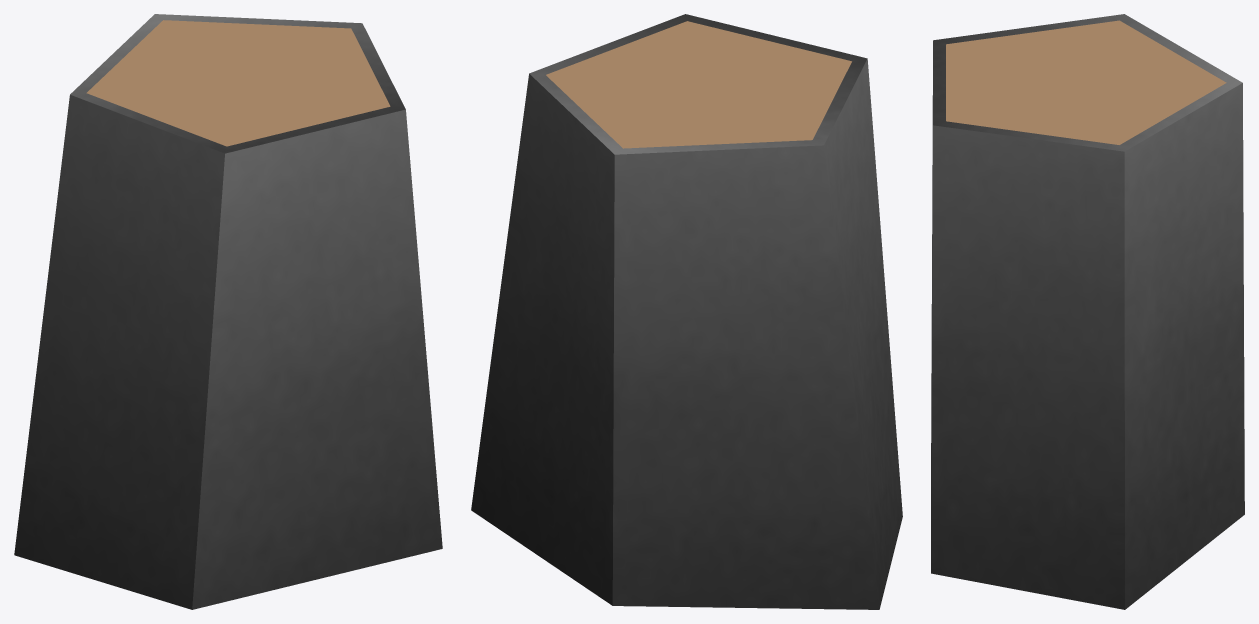
File: Birch_Stump_04.fbx
The picture shows the model from 3 angles, left to right: view 1: azimuth 30°, elevation 25°; view 2: azimuth 150°, elevation 25°; view 3: azimuth 270°, elevation 25°; orthographic projection. The views are drawn at different scales.
Parts seen in each view (by area): view 1: Birch_Stump_04; view 2: Birch_Stump_04; view 3: Birch_Stump_04.
Part boxes in pixels (left/top/right/bottom): Birch_Stump_04: left=14, top=14, right=442, bottom=609; Birch_Stump_04: left=471, top=14, right=902, bottom=609; Birch_Stump_04: left=931, top=14, right=1244, bottom=609.
Bounding box in the file's own units: 81.96 × 86.42 × 56.98.
